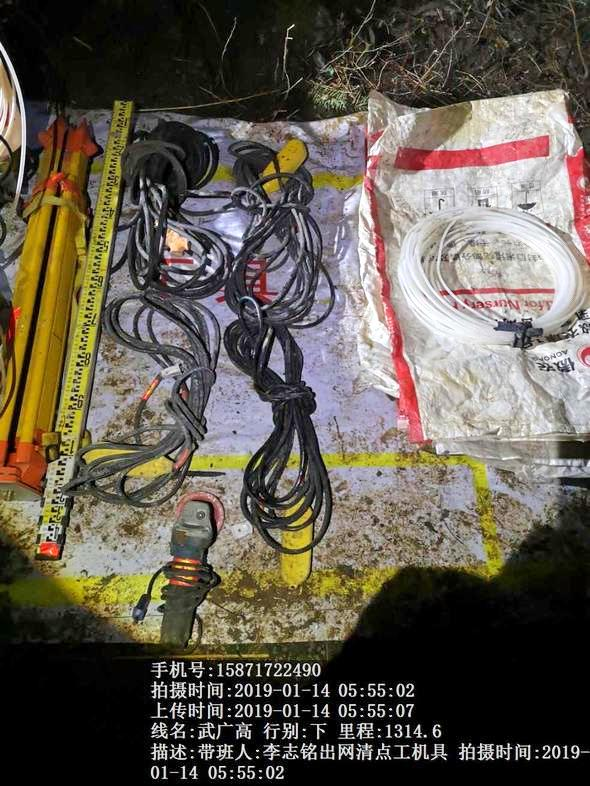BZD: (351, 80, 590, 471)
DX: (226, 331, 349, 551), (234, 140, 349, 325), (121, 121, 236, 306), (109, 307, 213, 504)
SG: (396, 198, 587, 345)
